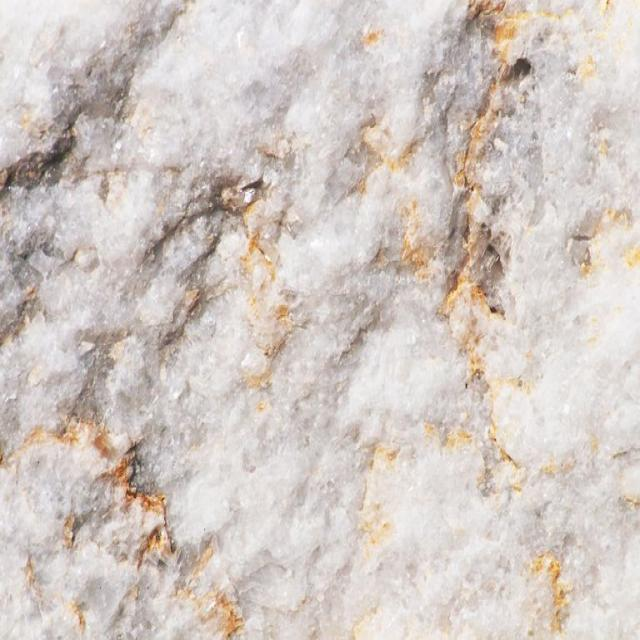Metamorphic: (2, 6, 638, 640)
